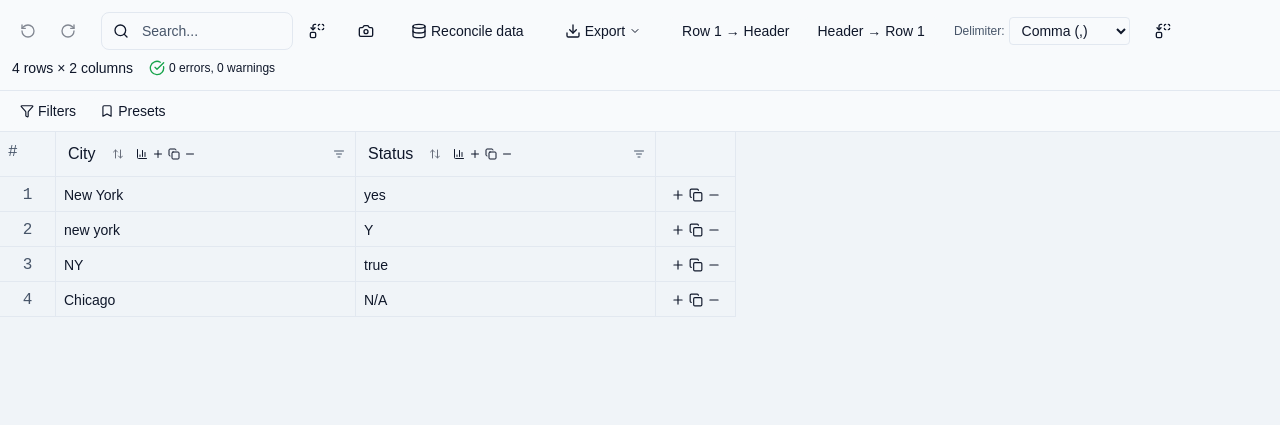
CSV Find & Replace › respects match case
This screenshot has width=1280, height=425.
Step 1. Click the button with test id "toggle-replace" → (317, 31), box top-left (301, 15), bottom-right (333, 47)
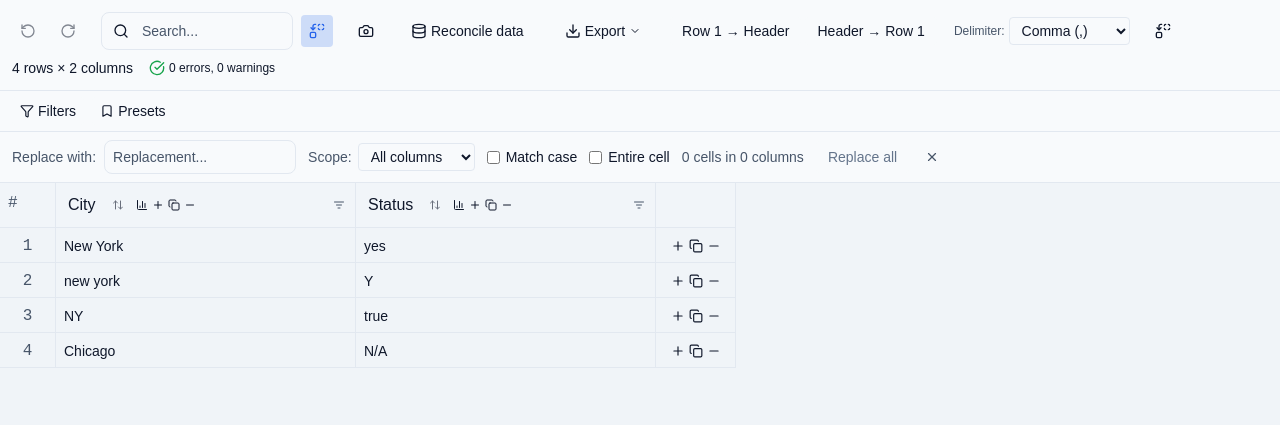
Step 2. Type "new york" into the field with test id "search-input" → (197, 31), box top-left (101, 12), bottom-right (293, 50)
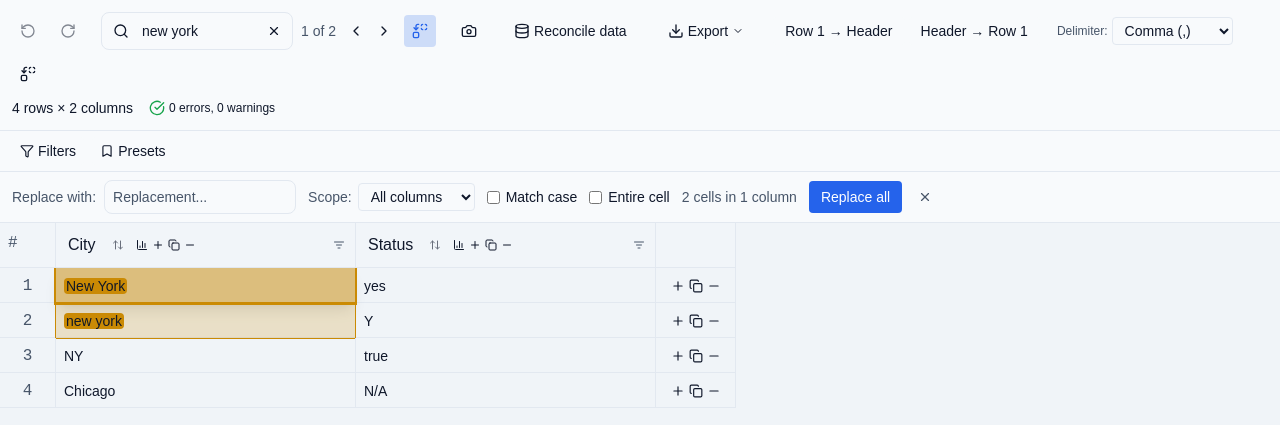
Expected: the text with test id "replace-preview" reads "2 cells in 1 column", top-left (682, 189), bottom-right (797, 205)
Step 3. Click the checkbox with test id "match-case-toggle" → (493, 197), box top-left (487, 190), bottom-right (500, 204)
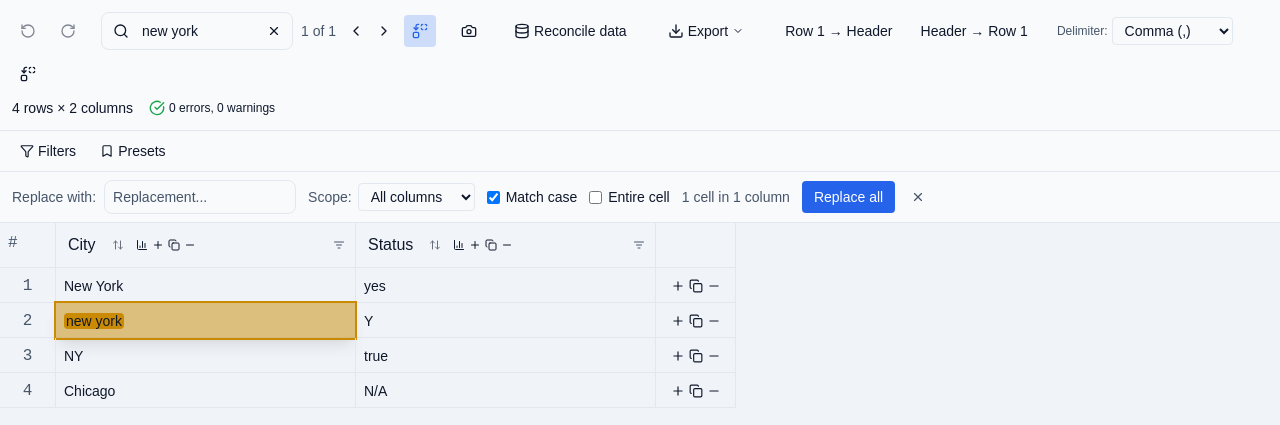
Expected: the text with test id "replace-preview" reads "1 cell in 1 column", top-left (682, 189), bottom-right (790, 205)
